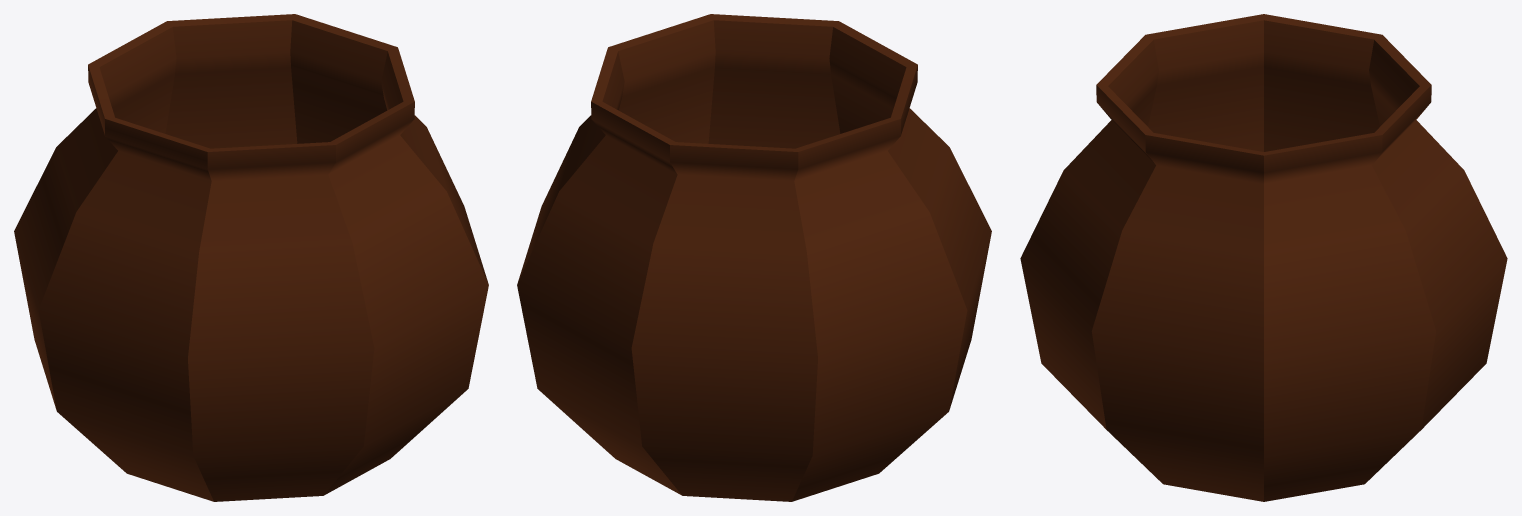
Rendered from Round_pot.fbx.
3 views of the same model, side by side, from view 1: azimuth 30°, elevation 25°; view 2: azimuth 150°, elevation 25°; view 3: azimuth 270°, elevation 25° (orthographic).
Parts seen in each view (by area): view 1: Round_Pot; view 2: Round_Pot; view 3: Round_Pot.
Boxes of the visible parts, x1=… form: Round_Pot: x1=14, y1=14, x2=488, y2=501; Round_Pot: x1=517, y1=14, x2=991, y2=501; Round_Pot: x1=1020, y1=14, x2=1507, y2=501.
Bounding box in the file's own units: 2.81 × 2.27 × 2.81.
